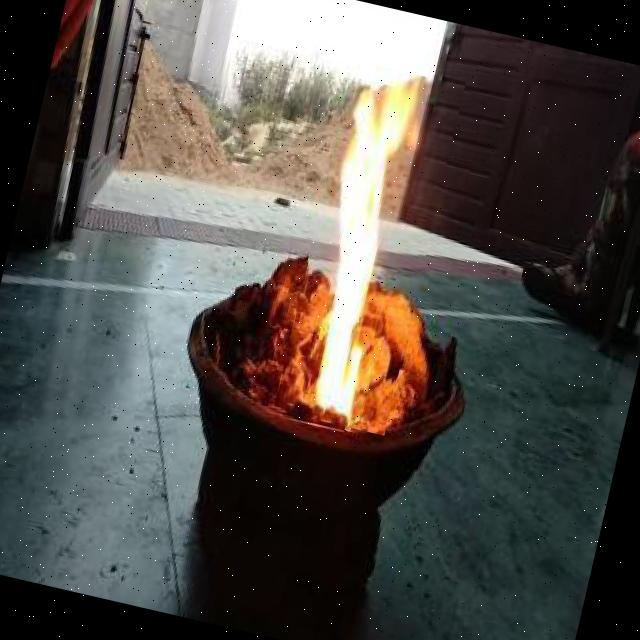fire: (272, 56, 466, 435)
